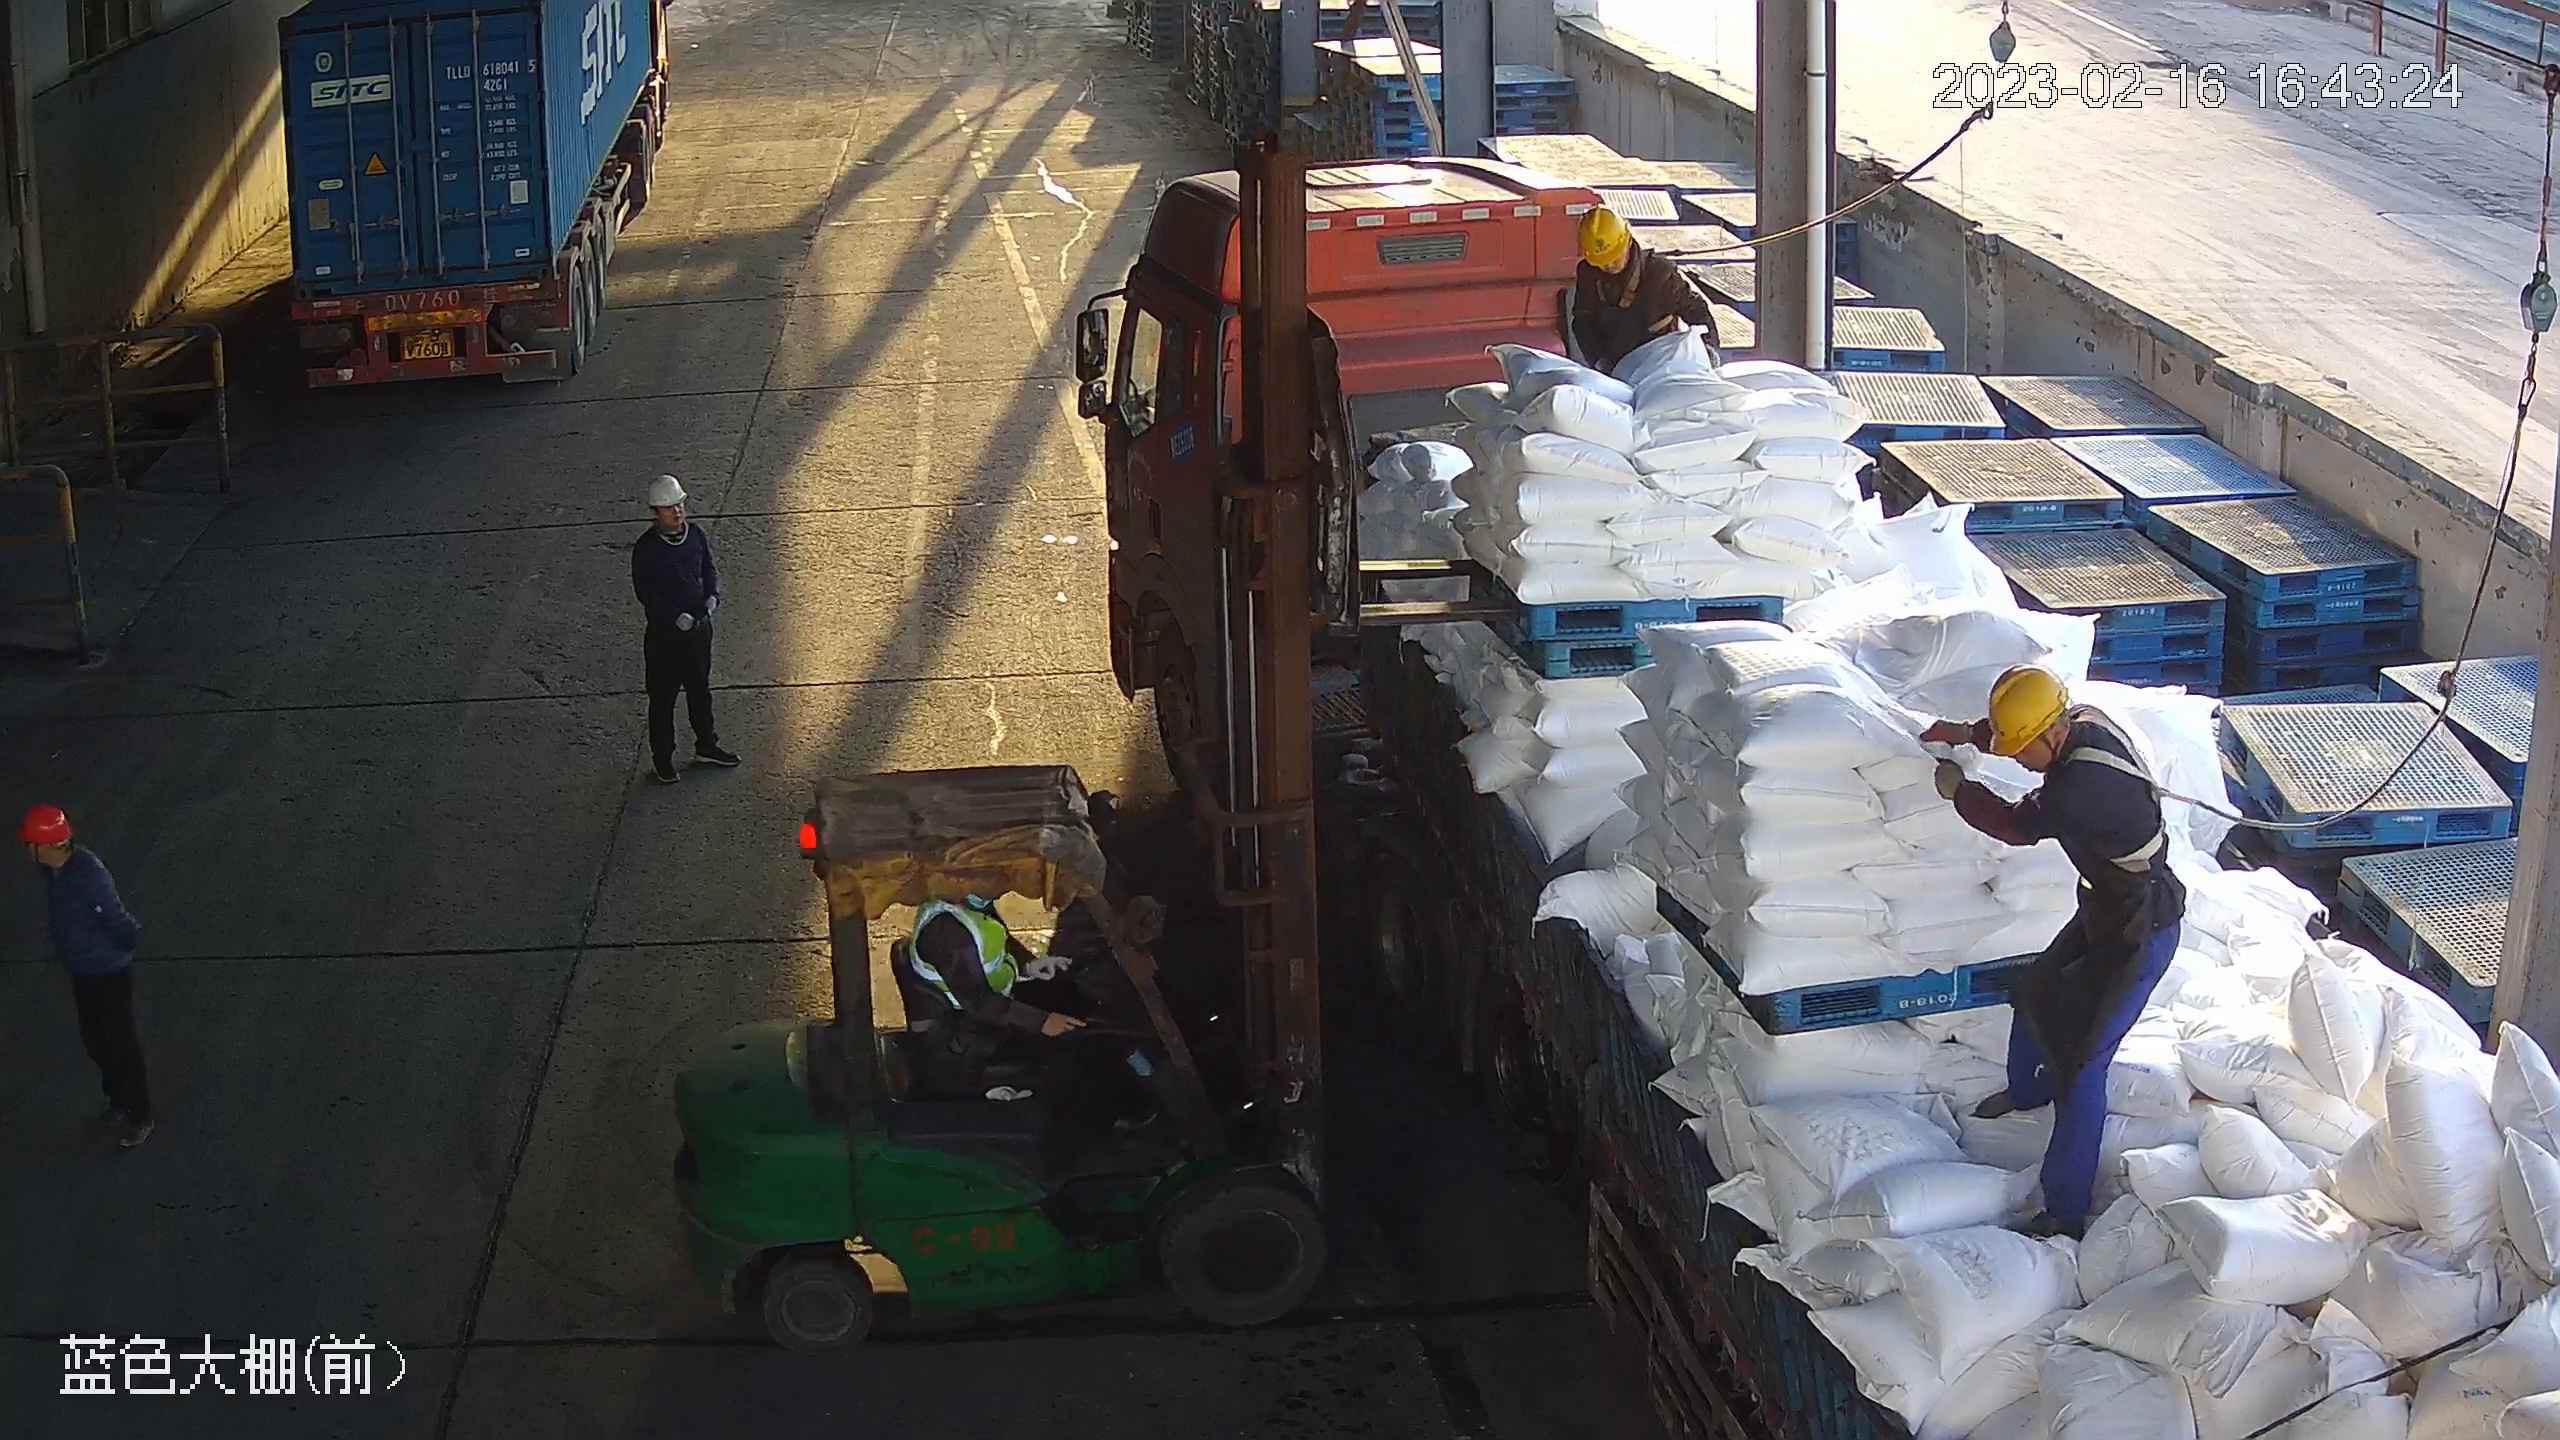belt: (2070, 700, 2171, 871), (1590, 264, 1642, 311)
head: (1927, 667, 2142, 861), (1569, 206, 1701, 344), (17, 808, 132, 937), (634, 476, 715, 583)
helmet: (1987, 667, 2074, 763), (1577, 209, 1635, 267), (20, 808, 74, 843), (645, 473, 688, 508)
people: (1920, 666, 2186, 1245), (904, 891, 1158, 1132), (20, 805, 162, 1154), (632, 471, 744, 789)
truck: (1074, 149, 2560, 1440), (271, 1, 671, 389)
